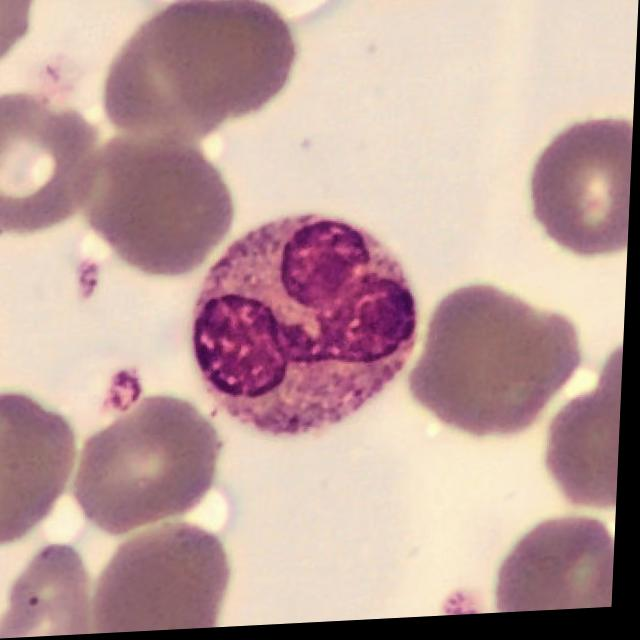Neutrofilo segmentado: (192, 216, 422, 441)
